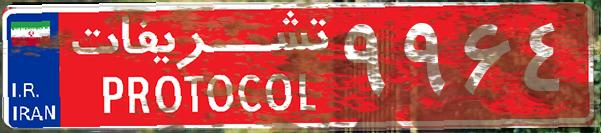4: (520, 20, 580, 115)
6: (460, 20, 520, 115)
9: (340, 20, 400, 115), (400, 20, 460, 115)
تشریفات: (60, 8, 340, 125)
